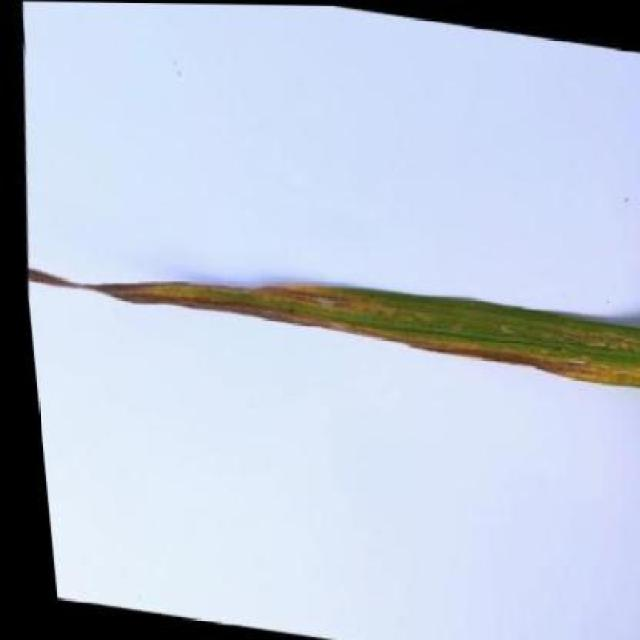Rice False Smut: (23, 268, 640, 386)
